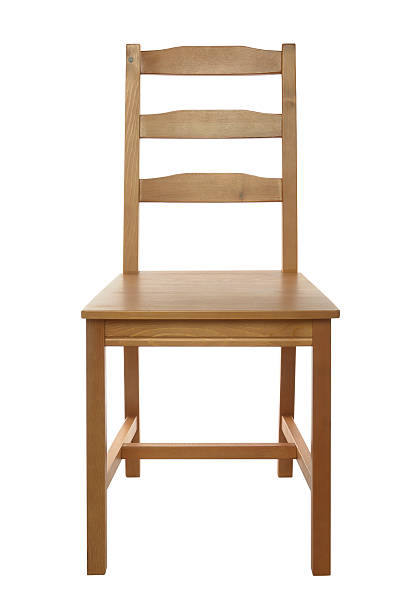Chair: (71, 28, 395, 601)
